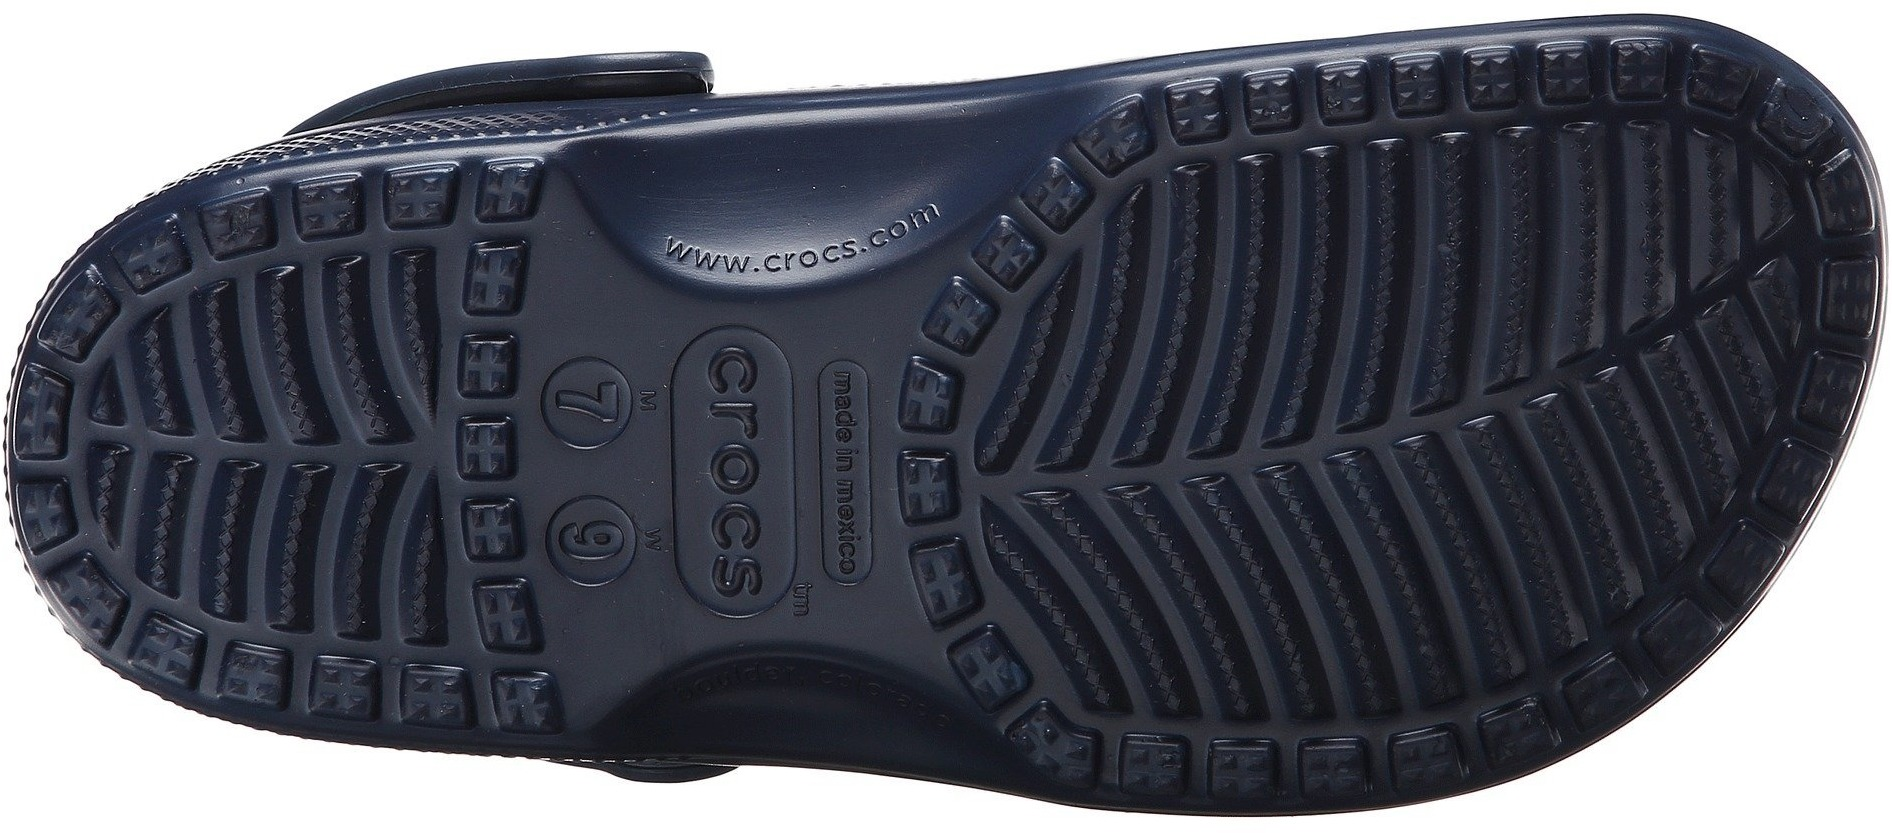chevron: (1050, 220, 1540, 698), (1470, 171, 1770, 472), (154, 301, 448, 567)
circle: (530, 346, 644, 464), (537, 485, 649, 593)
quad: (619, 315, 936, 621), (373, 155, 554, 319), (389, 581, 571, 740), (1802, 255, 1885, 345), (1292, 735, 1380, 809), (1308, 53, 1382, 130)
text: (687, 343, 777, 442), (691, 505, 786, 593), (551, 365, 627, 438), (562, 507, 626, 567)
